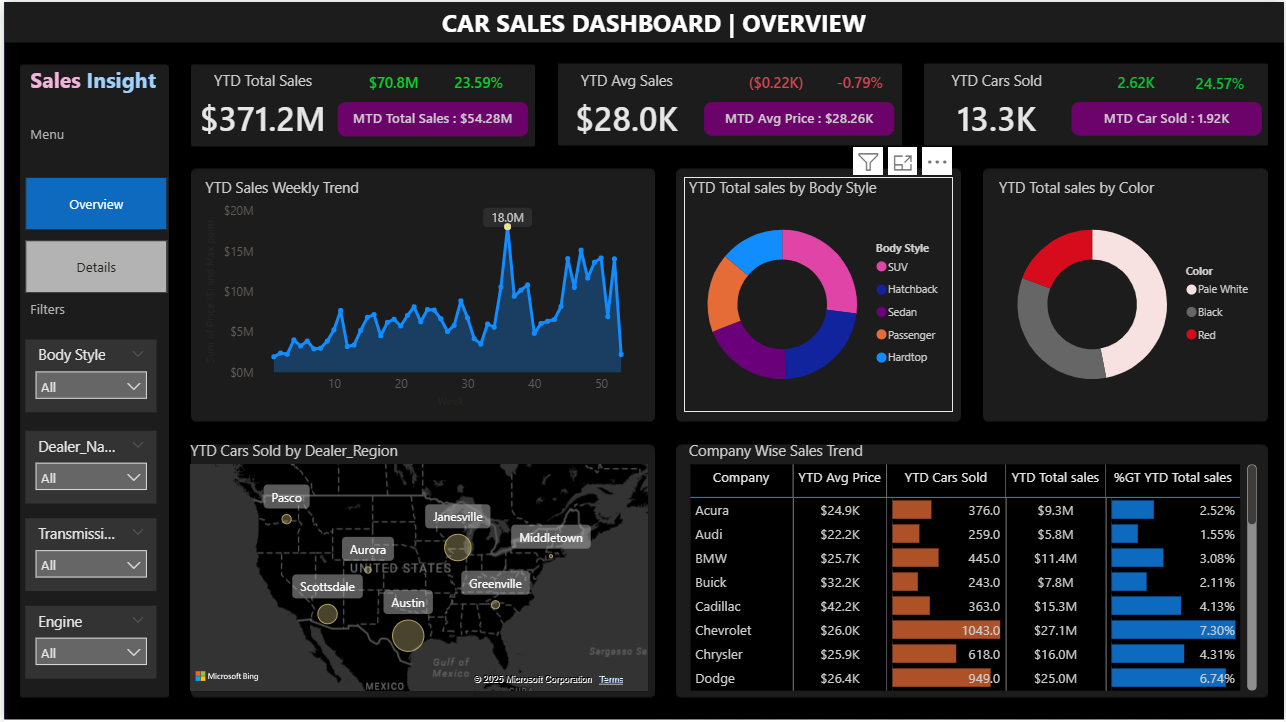

The dashboard page shown, as its layout file describes it:
{"tool":"powerbi","page":{"name":"Overview","canvas":[1280,720],"ordinal":0},"visuals":[{"type":"card","title":"YTD Total Sales","fields":{"Values":["car_data.YTD Total sales"]},"box":[181,67.6,155.6,77.2],"z":0},{"type":"card","fields":{"Values":["car_data.Sales Difference"]},"box":[347.5,67.6,84.5,25.3],"z":1000},{"type":"card","fields":{"Values":["car_data.YoY Sales Growth"]},"box":[431.9,67.6,84.5,25.3],"z":2000},{"type":"card","fields":{"Values":["car_data.MTD KPI"]},"box":[334.2,100.1,190.6,34],"z":3000},{"type":"card","title":"YTD Avg Sales","fields":{"Values":["car_data.YTD Avg Price"]},"box":[545.3,67.6,155.6,77.2],"z":4000},{"type":"card","fields":{"Values":["car_data.Avg price Diff"]},"box":[729.9,67.6,84.5,25.3],"z":5000},{"type":"card","fields":{"Values":["car_data.YoY Avg Price"]},"box":[814.3,67.6,84.5,25.3],"z":6000},{"type":"card","fields":{"Values":["car_data.AVG MTD KPI"]},"box":[699.7,100.1,190.6,33.8],"z":7000},{"type":"card","title":"YTD Cars Sold","fields":{"Values":["car_data.YTD Cars Sold"]},"box":[914.5,67.6,155.6,77.2],"z":8000},{"type":"card","fields":{"Values":["car_data.Cars Sold diff"]},"box":[1089.4,67.6,84.5,25.3],"z":9000},{"type":"card","fields":{"Values":["car_data.YoY Car Sold Growth"]},"box":[1173.9,68.8,84.5,25.3],"z":10000},{"type":"card","fields":{"Values":["car_data.Car Sold KPI"]},"box":[1067.7,100.1,190.6,33.8],"z":11000},{"type":"areaChart","title":"YTD Sales Weekly Trend","fields":{"Category":["DIMDATE.Week"],"Y":["Sum(car_data.Price ($))","car_data.Max point"]},"box":[196.6,174.9,442.8,235.3],"z":12000},{"type":"donutChart","fields":{"Category":["car_data.Body Style"],"Y":["car_data.YTD Total sales"]},"box":[680.4,174.9,267.8,235.3],"z":13000},{"type":"donutChart","fields":{"Y":["car_data.YTD Total sales"],"Category":["car_data.Color"]},"box":[990.5,174.9,267.8,235.3],"z":14000},{"type":"map","fields":{"Category":["car_data.Dealer_Region"],"Size":["car_data.YTD Cars Sold"]},"box":[181.2,437.5,467.5,256.2],"z":15000},{"type":"tableEx","title":"Company Wise Sales Trend","fields":{"Values":["car_data.Company","car_data.YTD Avg Price","car_data.YTD Cars Sold","car_data.YTD Total sales","Divide(car_data.YTD Total sales, ScopedEval(car_data.YTD Total sales, []))"]},"box":[680,437.5,577.5,256.2],"z":16000},{"type":"textbox","box":[401.2,0,497.5,48.8],"z":17000},{"type":"slicer","fields":{"Values":["car_data.Body Style"]},"box":[21.2,337.5,131.2,72.5],"z":18000},{"type":"slicer","fields":{"Values":["car_data.Dealer_Name"]},"box":[21.2,428.8,131.2,72.5],"z":19000},{"type":"slicer","fields":{"Values":["car_data.Transmission"]},"box":[21.2,516.2,131.2,72.5],"z":20000},{"type":"slicer","fields":{"Values":["car_data.Engine"]},"box":[21.2,603.8,131.2,72.5],"z":21000},{"type":"textbox","box":[21.2,292.5,97.5,33.8],"z":22000},{"type":"textbox","box":[21.2,57.5,142.5,48.8],"z":22001},{"type":"textbox","box":[21.2,117.5,97.5,33.8],"z":22002},{"type":"pageNavigator","box":[21.2,175,142.5,117.5],"z":22003}]}

Visuals, with their boxes in screenshot pixels (x1, y1, x2, y2), scaled from the page's 1280x720 canvas onto the 1286x722 screenshot:
"YTD Total Sales" card: x1=182, y1=68, x2=338, y2=145
card - car_data.Sales Difference: x1=349, y1=68, x2=434, y2=93
card - car_data.YoY Sales Growth: x1=434, y1=68, x2=519, y2=93
card - car_data.MTD KPI: x1=336, y1=100, x2=527, y2=134
"YTD Avg Sales" card: x1=548, y1=68, x2=704, y2=145
card - car_data.Avg price Diff: x1=733, y1=68, x2=818, y2=93
card - car_data.YoY Avg Price: x1=818, y1=68, x2=903, y2=93
card - car_data.AVG MTD KPI: x1=703, y1=100, x2=894, y2=134
"YTD Cars Sold" card: x1=919, y1=68, x2=1075, y2=145
card - car_data.Cars Sold diff: x1=1095, y1=68, x2=1179, y2=93
card - car_data.YoY Car Sold Growth: x1=1179, y1=69, x2=1264, y2=94
card - car_data.Car Sold KPI: x1=1073, y1=100, x2=1264, y2=134
"YTD Sales Weekly Trend" areaChart: x1=198, y1=175, x2=642, y2=411
donutChart - car_data.Body Style x car_data.YTD Total sales: x1=684, y1=175, x2=953, y2=411
donutChart - car_data.YTD Total sales x car_data.Color: x1=995, y1=175, x2=1264, y2=411
map - car_data.Dealer_Region x car_data.YTD Cars Sold: x1=182, y1=439, x2=652, y2=696
"Company Wise Sales Trend" tableEx: x1=683, y1=439, x2=1263, y2=696
textbox: x1=403, y1=0, x2=903, y2=49
slicer - car_data.Body Style: x1=21, y1=338, x2=153, y2=411
slicer - car_data.Dealer_Name: x1=21, y1=430, x2=153, y2=503
slicer - car_data.Transmission: x1=21, y1=518, x2=153, y2=590
slicer - car_data.Engine: x1=21, y1=605, x2=153, y2=678
textbox: x1=21, y1=293, x2=119, y2=327
textbox: x1=21, y1=58, x2=164, y2=107
textbox: x1=21, y1=118, x2=119, y2=152
pageNavigator: x1=21, y1=175, x2=164, y2=293
